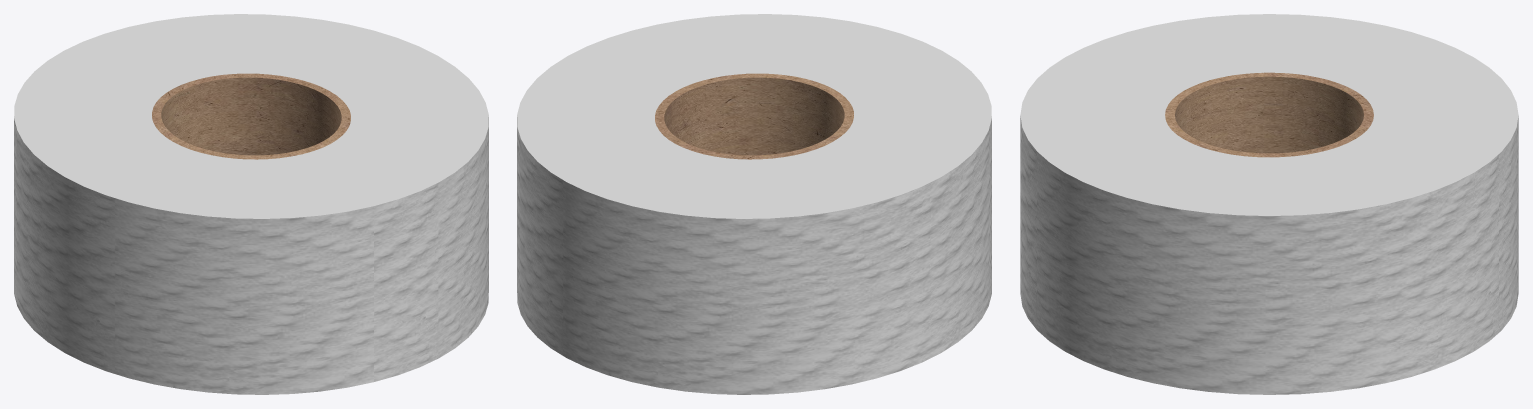
File: tissue.fbx
3 views of the same model, side by side, from view 1: azimuth 30°, elevation 25°; view 2: azimuth 150°, elevation 25°; view 3: azimuth 270°, elevation 25° (orthographic).
Parts seen in each view (by area): view 1: toilet_paper.002; view 2: toilet_paper.002; view 3: toilet_paper.002.
Part boxes in pixels (x1=…): toilet_paper.002: x1=14, y1=14, x2=488, y2=394; toilet_paper.002: x1=517, y1=14, x2=991, y2=394; toilet_paper.002: x1=1020, y1=14, x2=1518, y2=394.
Size of the model in its own units: 17.6 by 7.26 by 18.33.
Materials: 3 (2 with a texture image).
